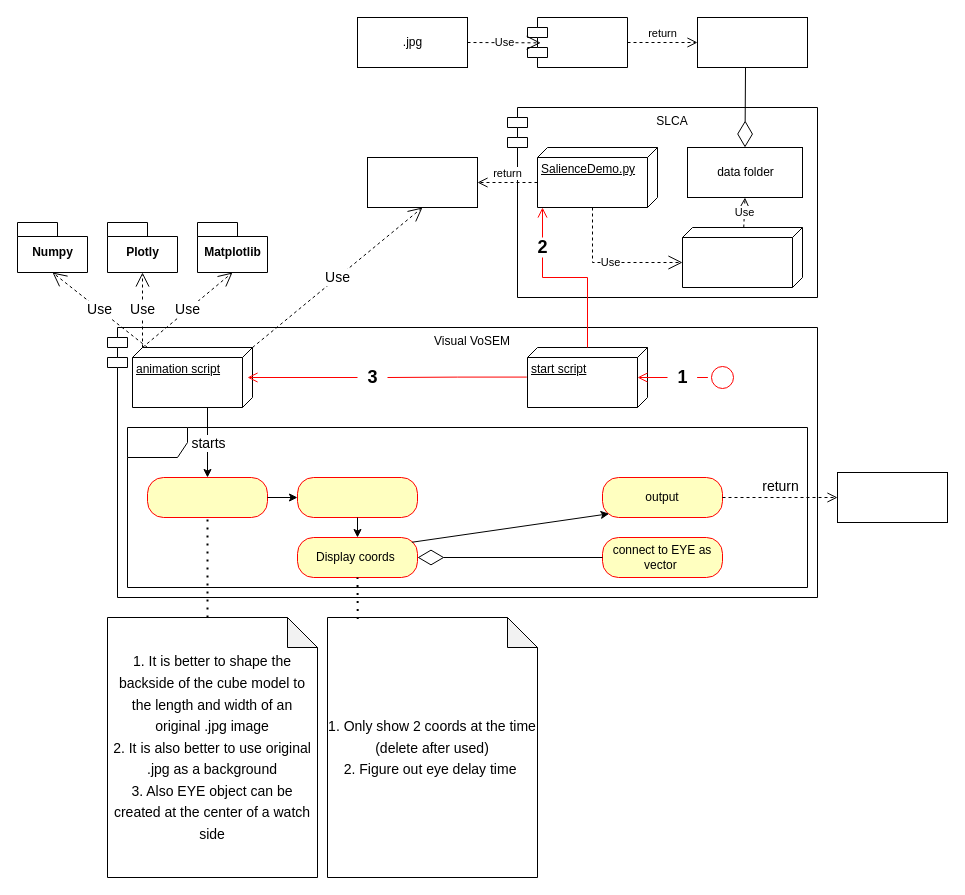
The diagram is 965 pixels wide and 895 high, and some of its shapes have lost their labels. Each missing label, with the box of its shape:
2 coord lists: (366, 156, 478, 208)
Algo: (126, 426, 808, 588)
Create 3D axes model: (146, 476, 268, 518)
EML: (526, 16, 628, 68)
Parse lists to coords: (296, 476, 418, 518)
salience map: (696, 16, 808, 68)
slca.py: (682, 226, 802, 288)
Visualisation: (836, 472, 948, 522)
